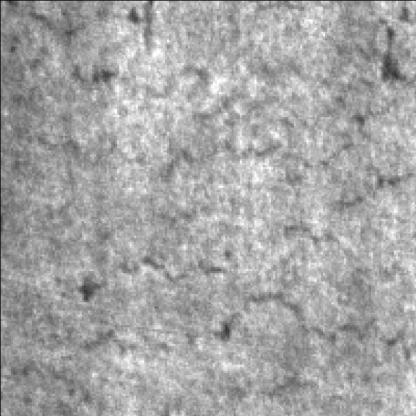crazing: (87, 214, 416, 356), (117, 49, 394, 190), (25, 0, 160, 90)
